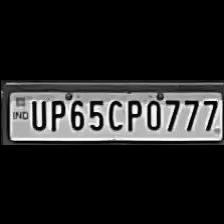0: (142, 96, 162, 130)
5: (84, 96, 104, 130)
6: (65, 96, 84, 130)
7: (199, 96, 219, 130), (162, 95, 180, 131), (180, 96, 198, 132)
C: (104, 96, 122, 130)
P: (122, 96, 142, 130), (46, 95, 64, 131)
U: (27, 96, 46, 130)
